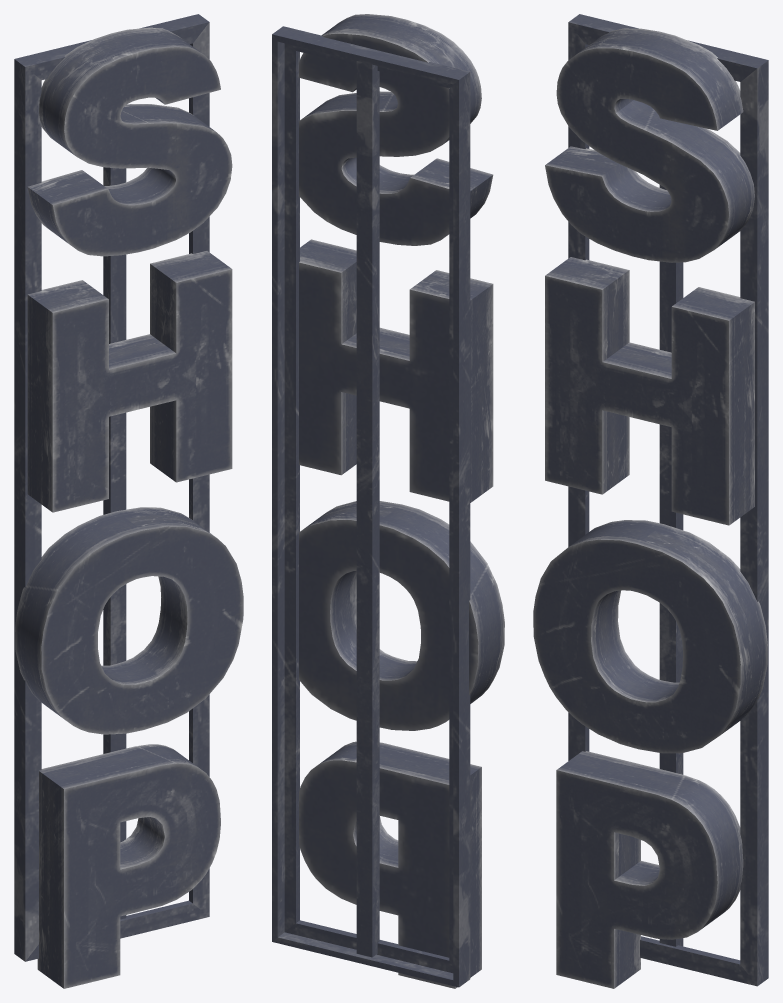
The model's file is Shop2.fbx.
The picture shows the model from 3 angles, left to right: view 1: azimuth 30°, elevation 25°; view 2: azimuth 150°, elevation 25°; view 3: azimuth 330°, elevation 25°; orthographic projection. The views are drawn at different scales.
Visible parts, largest first — view 1: polySurface274; view 2: polySurface274; view 3: polySurface274.
Part boxes in pixels (box(x1,y1,x2,y2)): polySurface274: box(14, 14, 243, 988); polySurface274: box(272, 14, 504, 988); polySurface274: box(533, 14, 768, 988).
Size of the model in its own units: 88.43 by 383 by 27.4.
Materials: 1 (1 with a texture image).
